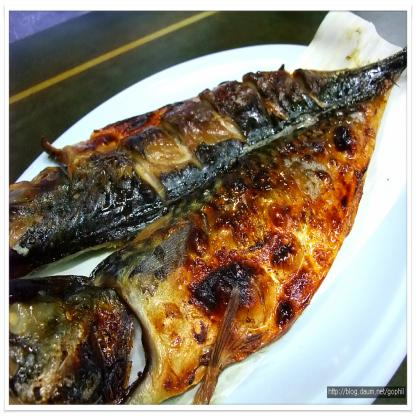Peixe: (8, 16, 408, 401)
